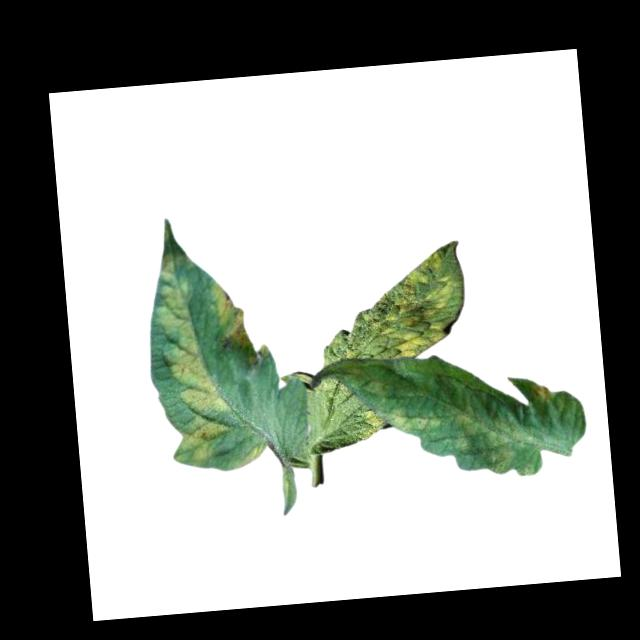Leaf_Mold: (151, 218, 235, 472), (312, 243, 470, 366), (448, 400, 537, 481), (209, 276, 269, 374), (391, 398, 439, 439), (356, 406, 389, 442), (529, 379, 553, 402)
